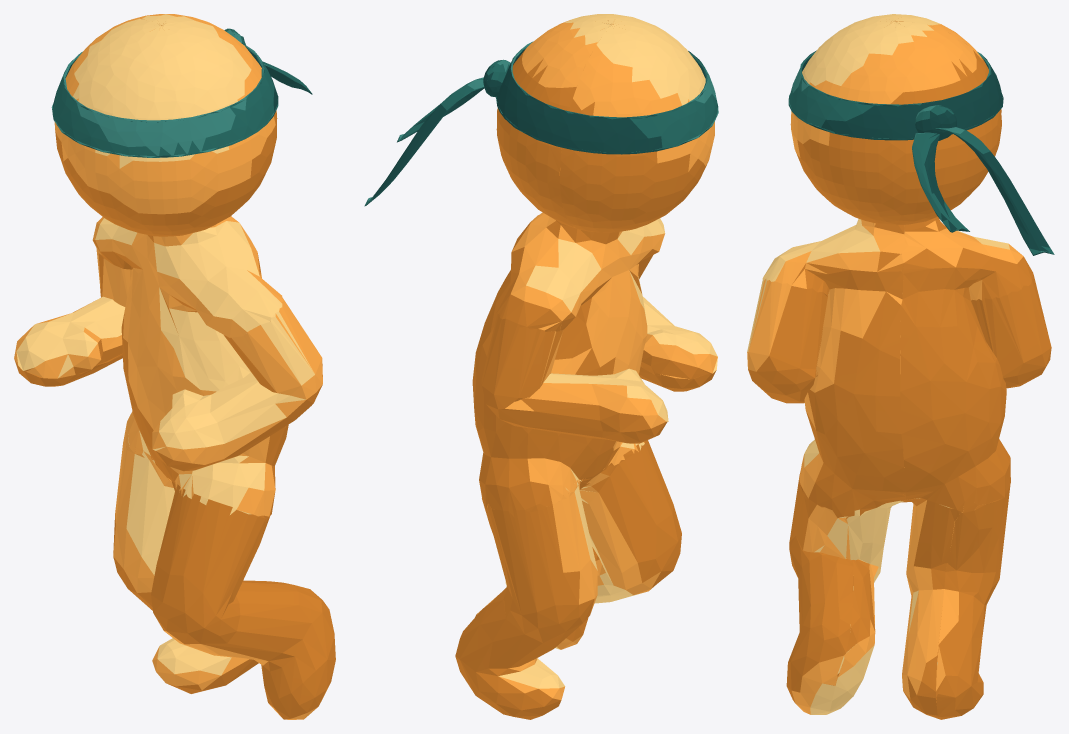
The model's file is Ninja_Jog0_L.gltf.
3 renders of one model, left to right at view 1: azimuth 30°, elevation 25°; view 2: azimuth 150°, elevation 25°; view 3: azimuth 270°, elevation 25°, orthographic. The views are drawn at different scales.
Visible parts, largest first — view 1: Ninja_Jog0_L_baked; view 2: Ninja_Jog0_L_baked; view 3: Ninja_Jog0_L_baked.
Part boxes in pixels (box(x1,y1,x2,y2)): Ninja_Jog0_L_baked: box(14, 14, 335, 719); Ninja_Jog0_L_baked: box(364, 14, 718, 719); Ninja_Jog0_L_baked: box(747, 14, 1054, 719).
Bounding box in the file's own units: 0.4199 × 1 × 0.4207.
